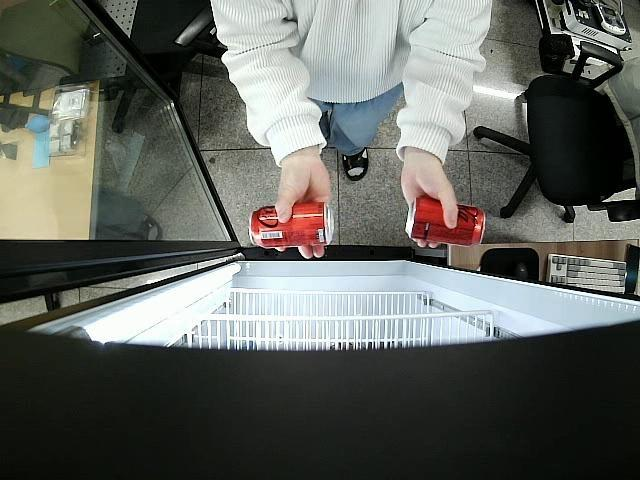11_cocaColaZero: (405, 196, 486, 247), (250, 201, 334, 248)
